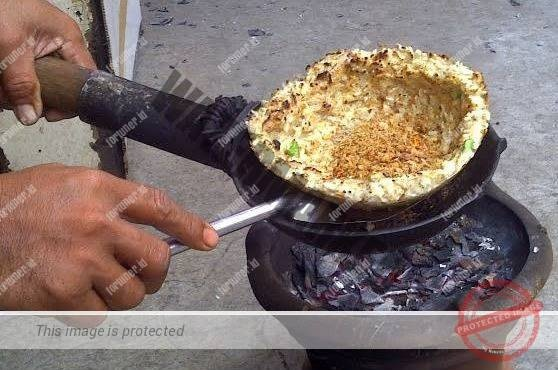kerak_telor: (242, 44, 492, 207)
